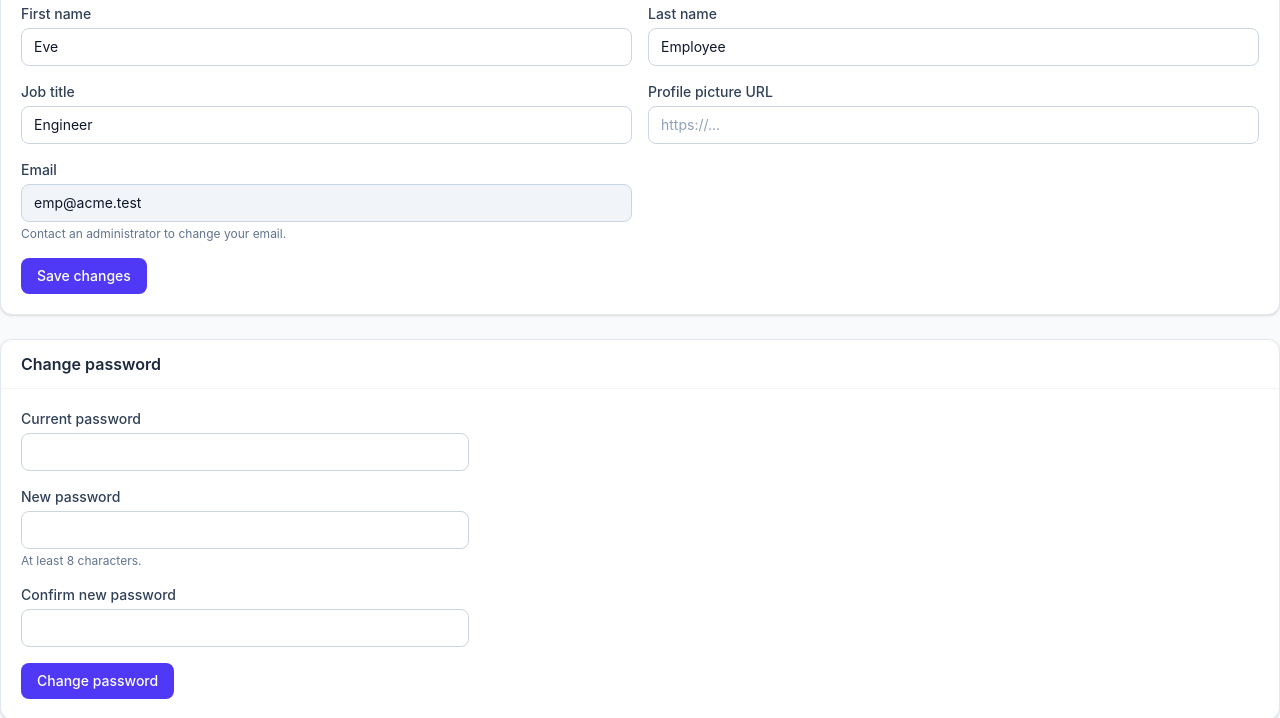
ProfilePage › changes the password and clears the form
(page scrolled)
Type "oldsecret" into the password field labelled "Current password".
click(245, 452); type("oldsecret")  # box [21,433,469,471]
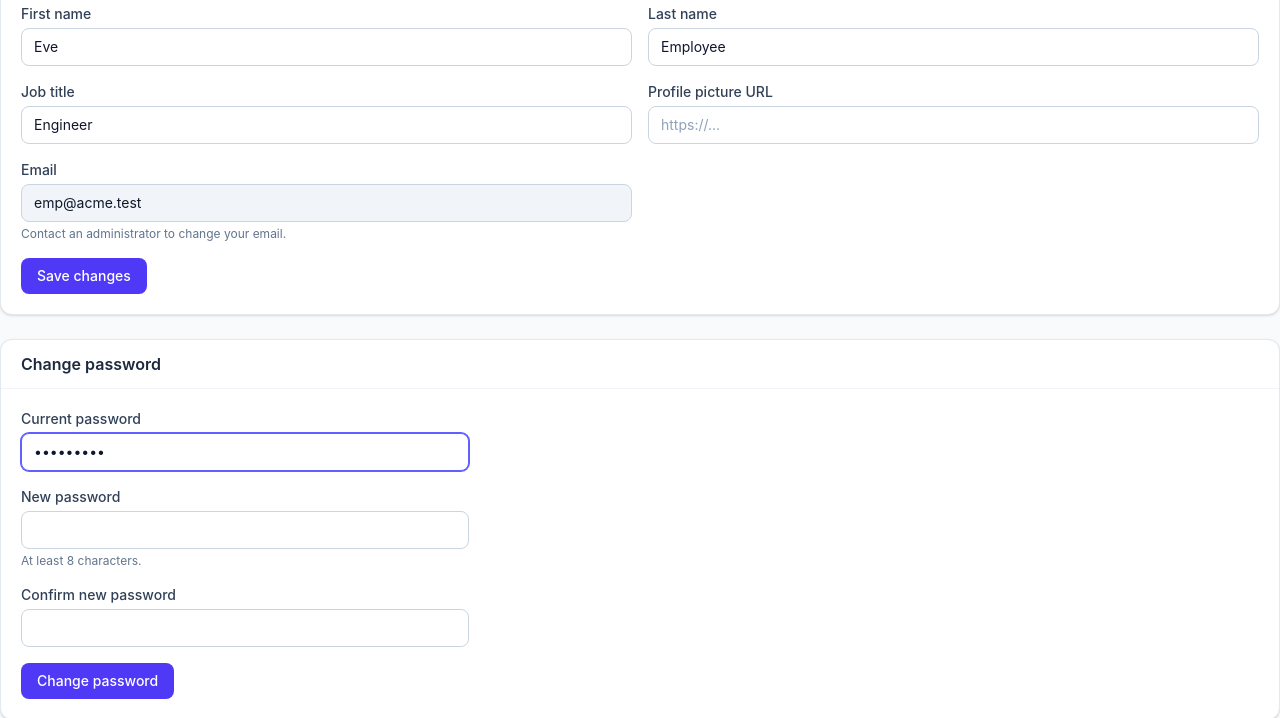
Type "newsecret1" into the password field labelled "New password".
click(245, 530); type("newsecret1")  # box [21,511,469,549]
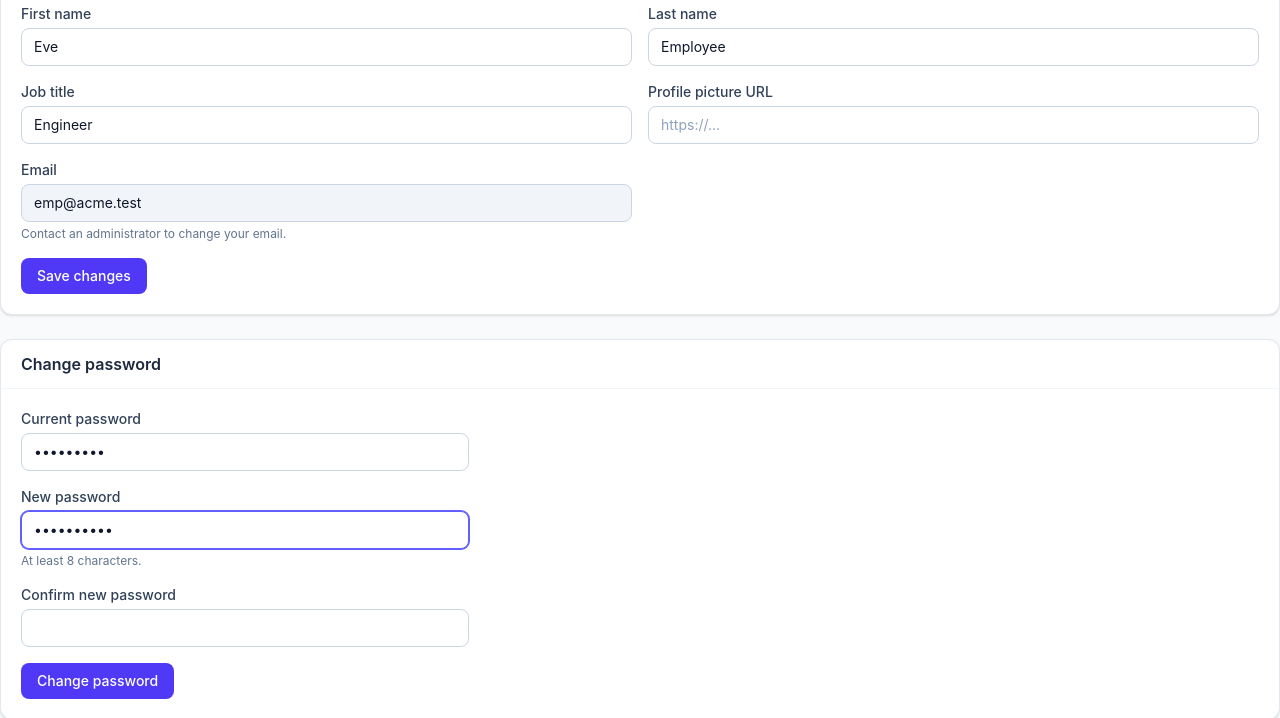
Type "newsecret1" into the password field labelled "Confirm new password".
click(245, 628); type("newsecret1")  # box [21,609,469,647]
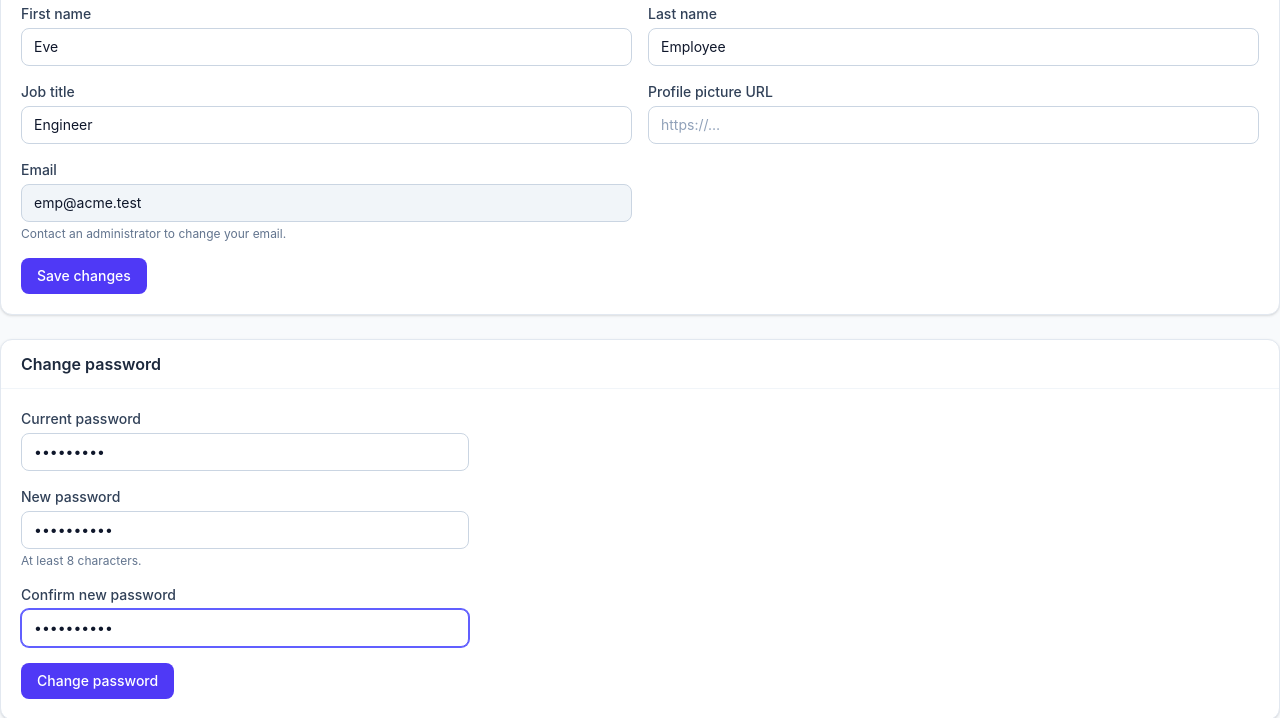
Click the button "Change password".
click(98, 681)  # box [21,663,174,699]
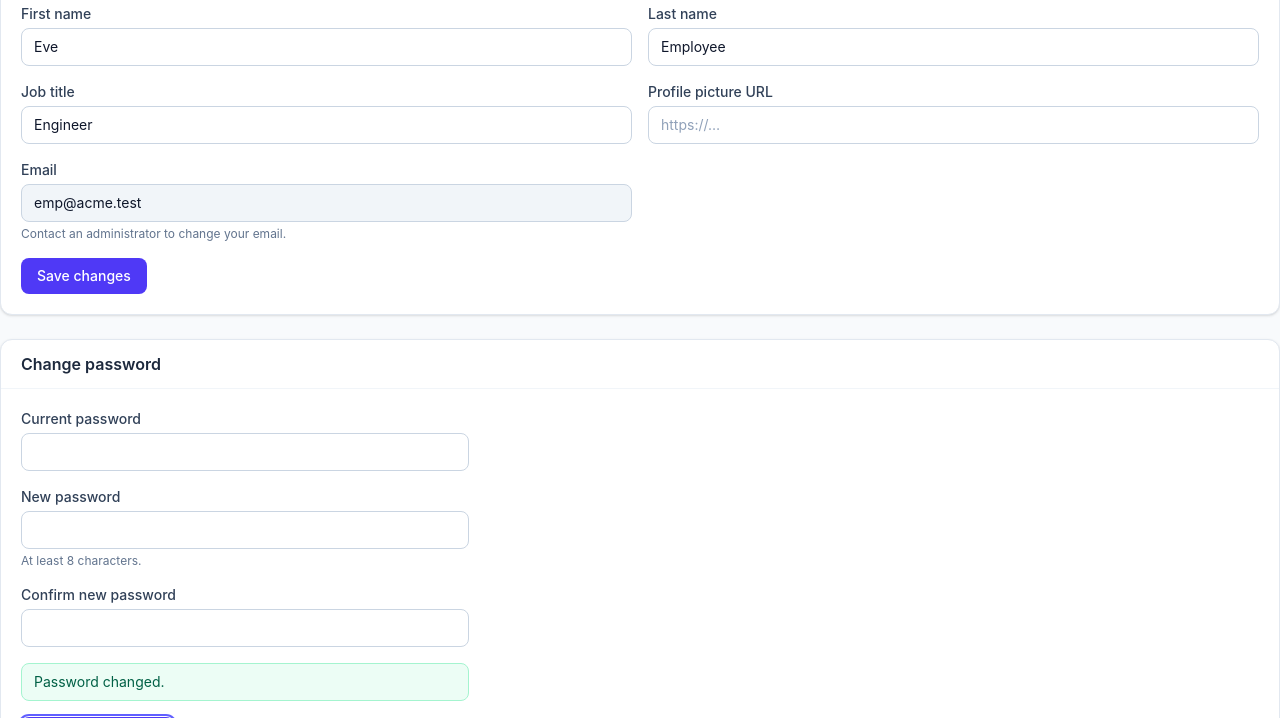
expect the message reads "Password changed.": met, box [34,673,164,690]
expect the password field labelled "Current password" is empty: met, box [21,433,469,471]
expect the password field labelled "New password" is empty: met, box [21,511,469,549]
